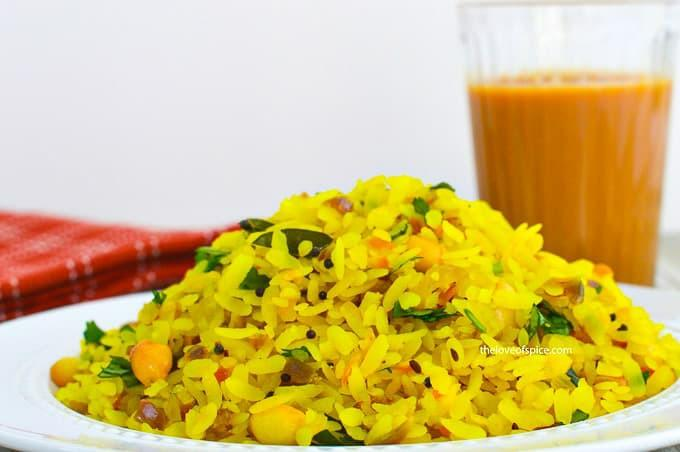Poha: (51, 171, 680, 448)
